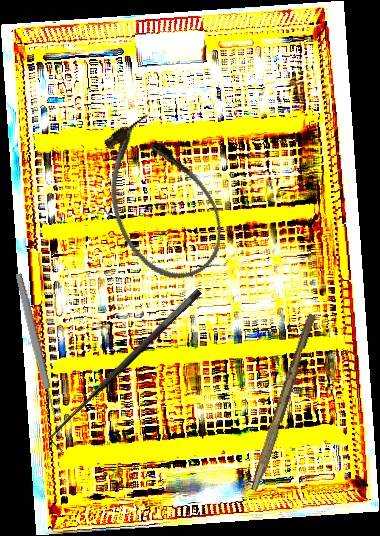Cannula: (79, 103, 240, 297)
Hook Surgical: (43, 286, 214, 453)
Scalpel Handle: (250, 312, 317, 493)
Surgical Spoon: (13, 272, 64, 438)
